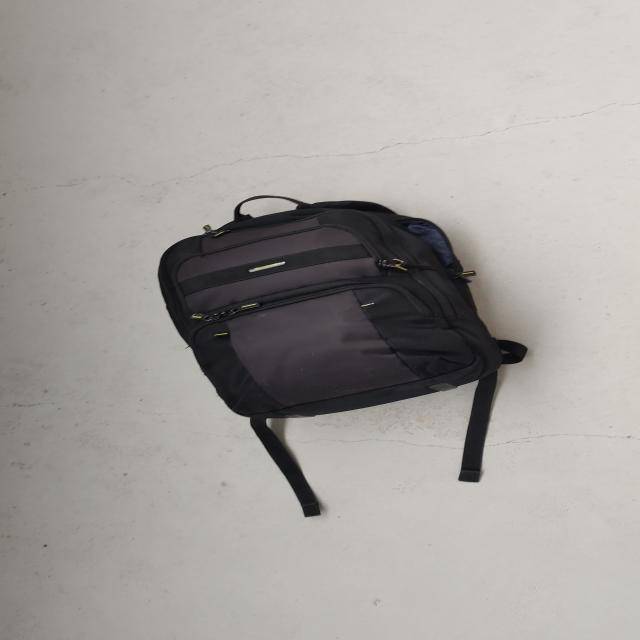backpack: (146, 188, 516, 430)
